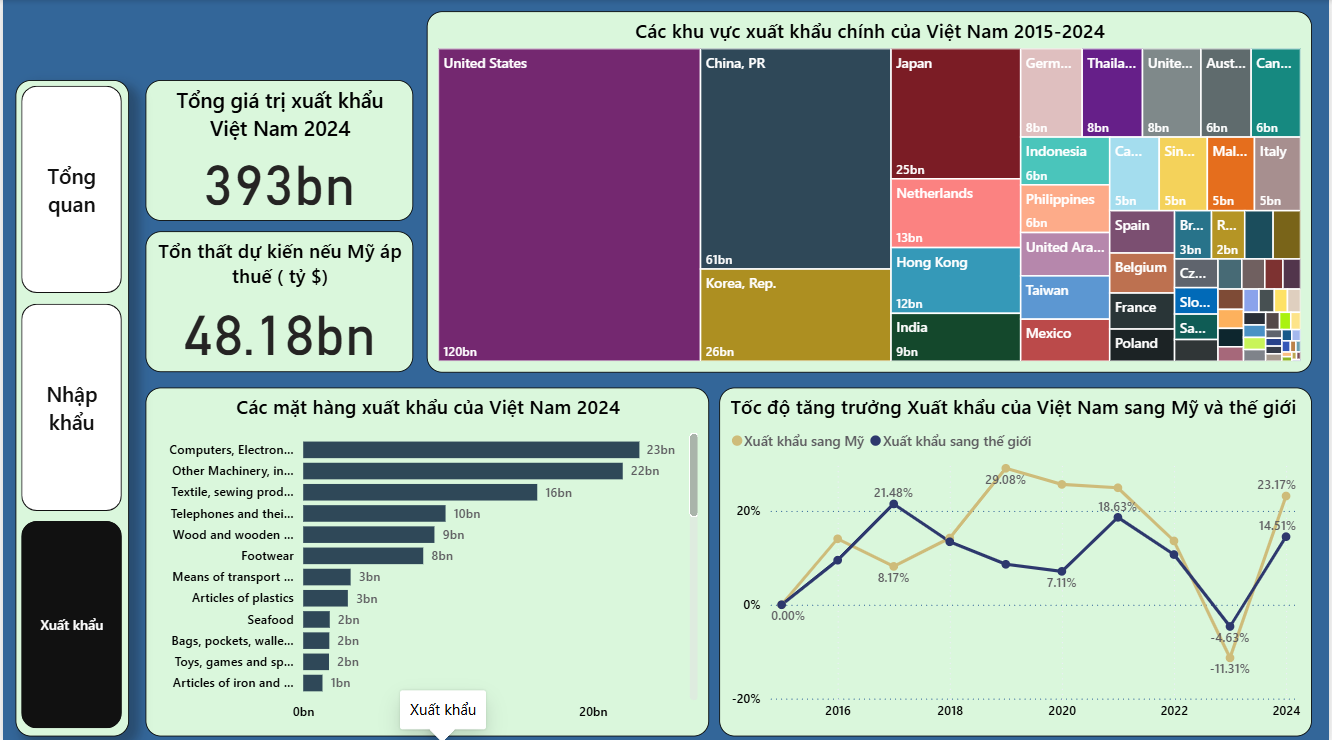

This screenshot's page, from the dashboard's own definition file:
{"tool":"powerbi","page":{"name":"Xuất khẩu","canvas":[1280,720],"ordinal":2},"visuals":[{"type":"treemap","title":"Các khu vực xuất khẩu chính của Việt Nam 2015-2024","fields":{"Group":["Vietnam Imports and Exports by country and territory.Country"],"Values":["Sum(Vietnam Imports and Exports by country and territory.Value_USD)"]},"box":[409,10.9,854.2,348.7],"z":0},{"type":"barChart","title":"Các mặt hàng xuất khẩu của Việt Nam 2024","fields":{"Y":["Sum(Vietnam Exports by some main country groups, countries, territories and by main.Value_USD)"],"Category":["Vietnam Exports by some main country groups, countries, territories and by main.Item"]},"box":[137.5,374,544.1,336.6],"z":1000},{"type":"lineChart","title":"Tốc độ tăng trưởng Xuất khẩu của Việt Nam sang Mỹ và thế giới ","fields":{"Category":["Vietnam Imports and Exports by country and territory.Year"],"Y":["Vietnam Imports and Exports by country and territory.ExportGrowthUS","Vietnam Imports and Exports by country and territory.ExportGrowthAll"]},"box":[691.3,374,571.9,336.6],"z":2000},{"type":"card","title":"Tổng giá trị xuất khẩu Việt Nam 2024","fields":{"Values":["Sum(Vietnam Imports and Exports by country and territory.Value_USD)"]},"box":[137.5,77.2,258.2,136.3],"z":3000},{"type":"card","title":"Tổn thất dự kiến nếu Mỹ áp thuế ( tỷ $)","fields":{"Values":["US Imports and Exports in 2024.Thiệt hại Tiềm năng (Theo từng Nhóm hàng)"]},"box":[137.5,223.2,258.2,136.3],"z":4000},{"type":"qnaVisual","title":"Xuất khẩu Việt Nam ","box":[12.1,10.9,383.6,56.7],"z":5000},{"type":"pageNavigator","box":[12.1,77.2,109.8,633.4],"z":6000}]}

Visuals, with their boxes in screenshot pixels (x1, y1, x2, y2), scaled from the page's 1280x720 canvas onto the 1332x740 screenshot:
"Các khu vực xuất khẩu chính của Việt Nam 2015-2024" treemap: [x1=426, y1=11, x2=1315, y2=370]
"Các mặt hàng xuất khẩu của Việt Nam 2024" barChart: [x1=143, y1=384, x2=709, y2=730]
"Tốc độ tăng trưởng Xuất khẩu của Việt Nam sang Mỹ và thế giới " lineChart: [x1=719, y1=384, x2=1315, y2=730]
"Tổng giá trị xuất khẩu Việt Nam 2024" card: [x1=143, y1=79, x2=412, y2=219]
"Tổn thất dự kiến nếu Mỹ áp thuế ( tỷ $)" card: [x1=143, y1=229, x2=412, y2=369]
"Xuất khẩu Việt Nam " qnaVisual: [x1=13, y1=11, x2=412, y2=69]
pageNavigator: [x1=13, y1=79, x2=127, y2=730]
